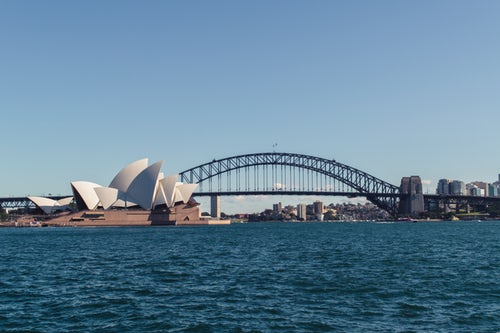opera house: (19, 148, 228, 231)
